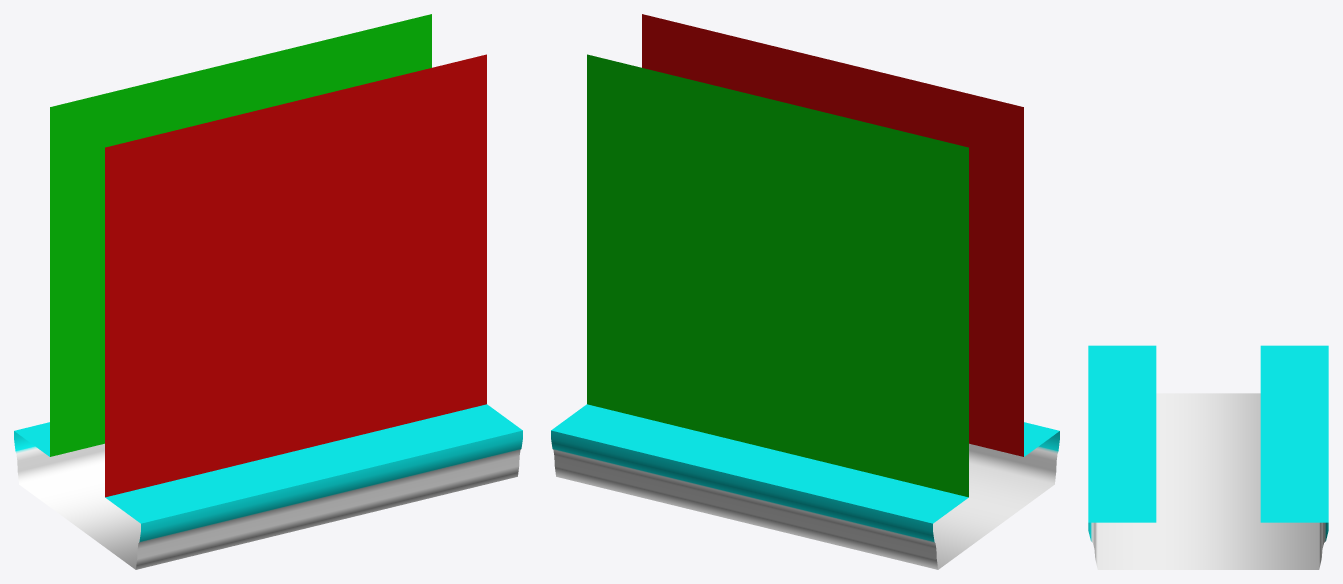
File: SM_FriezeArchDualOpenSide2m.fbx
3 views of the same model, side by side, from view 1: azimuth 30°, elevation 25°; view 2: azimuth 150°, elevation 25°; view 3: azimuth 270°, elevation 25° (orthographic). The views are drawn at different scales.
Parts seen in each view (by area): view 1: SM_FriezeArchDualOpenSide2m; view 2: SM_FriezeArchDualOpenSide2m; view 3: SM_FriezeArchDualOpenSide2m.
Boxes of the visible parts, x1,y1,x2,y2 form: SM_FriezeArchDualOpenSide2m: (14,14,522,569); SM_FriezeArchDualOpenSide2m: (551,14,1059,569); SM_FriezeArchDualOpenSide2m: (1088,345,1328,569).
Size of the model in its own units: 200 by 200 by 115.
